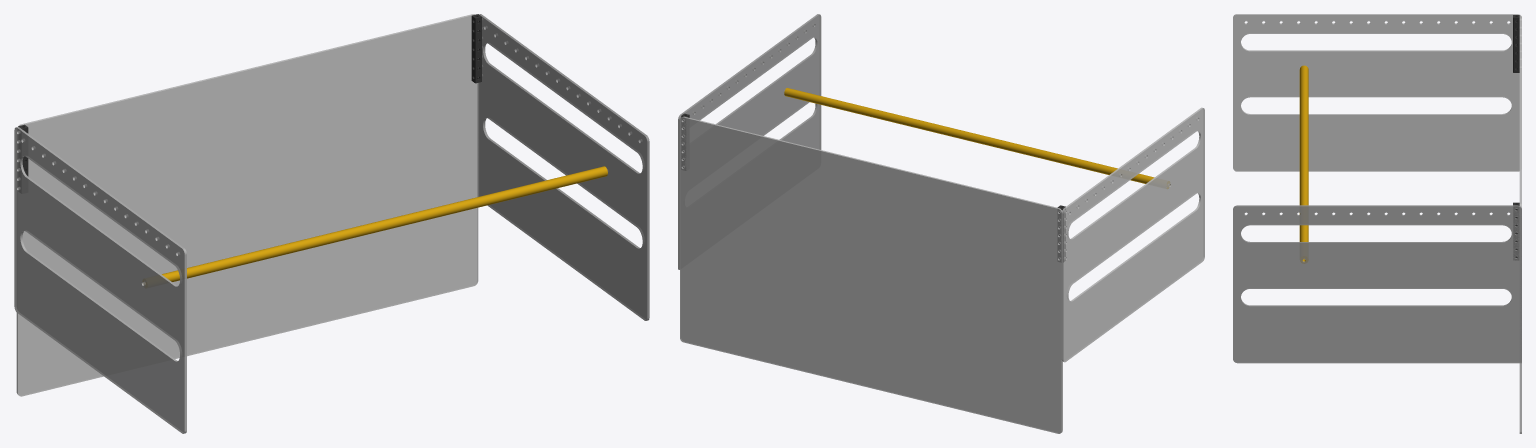
3 views of the same model, side by side, from view 1: azimuth 30°, elevation 25°; view 2: azimuth 150°, elevation 25°; view 3: azimuth 270°, elevation 25° (orthographic). The views are drawn at different scales.
Visible parts, largest first — view 1: HP-Back_Wall-PC-063-CNC, HP-Extended_Plate-Smoked_PC-125-CNC, Part 11, Part 42, Nut Strip (3/8" Square, 7 Positions, #10-32 Holes, Aligned .; view 2: HP-Back_Wall-PC-063-CNC, HP-Extended_Plate-Smoked_PC-125-CNC, Part 11, Part 42; view 3: Part 11, HP-Extended_Plate-Smoked_PC-125-CNC, Part 42, HP-Back_Wall-PC-063-CNC, Nut Strip (3/8" Square, 7 Positions, #10-32 Holes, Aligned ..
Boxes of the visible parts, x1,y1,x2,y2 form: HP-Back_Wall-PC-063-CNC: [16, 14, 478, 396]; HP-Extended_Plate-Smoked_PC-125-CNC: [14, 127, 186, 433]; Part 11: [477, 14, 649, 320]; Part 42: [143, 166, 607, 286]; Nut Strip (3/8" Square, 7 Positions, #10-32 Holes, Aligned .: [471, 14, 481, 83]; HP-Back_Wall-PC-063-CNC: [680, 116, 1062, 433]; HP-Extended_Plate-Smoked_PC-125-CNC: [1061, 107, 1204, 362]; Part 11: [678, 14, 821, 269]; Part 42: [784, 88, 1169, 188]; Part 11: [1233, 205, 1521, 363]; HP-Extended_Plate-Smoked_PC-125-CNC: [1233, 14, 1521, 171]; Part 42: [1299, 65, 1308, 263]; HP-Back_Wall-PC-063-CNC: [1519, 16, 1521, 433]; Nut Strip (3/8" Square, 7 Positions, #10-32 Holes, Aligned .: [1513, 15, 1519, 72].
Bounding box in the file's own units: 0.6604 × 0.3683 × 0.4191.
